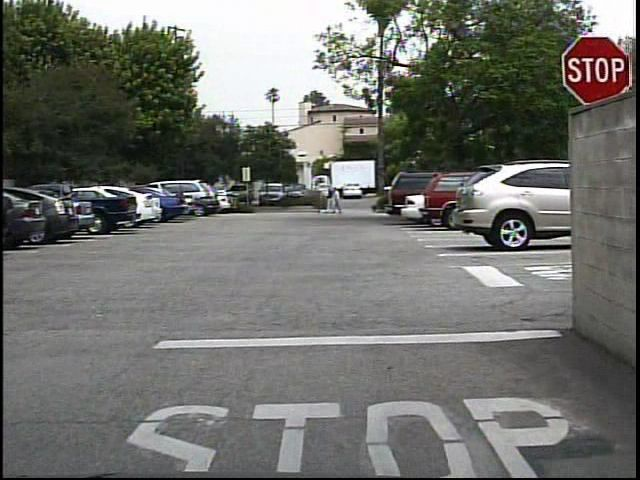person: (330, 186, 348, 216), (315, 186, 330, 215), (324, 186, 337, 217)
